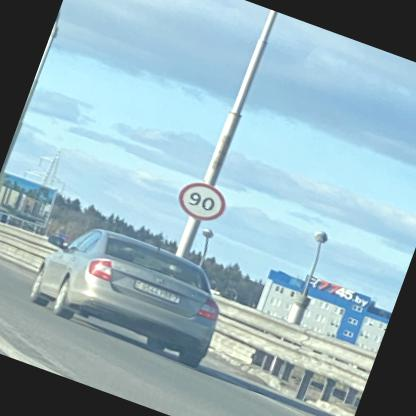speedlimit: (171, 174, 228, 226)
